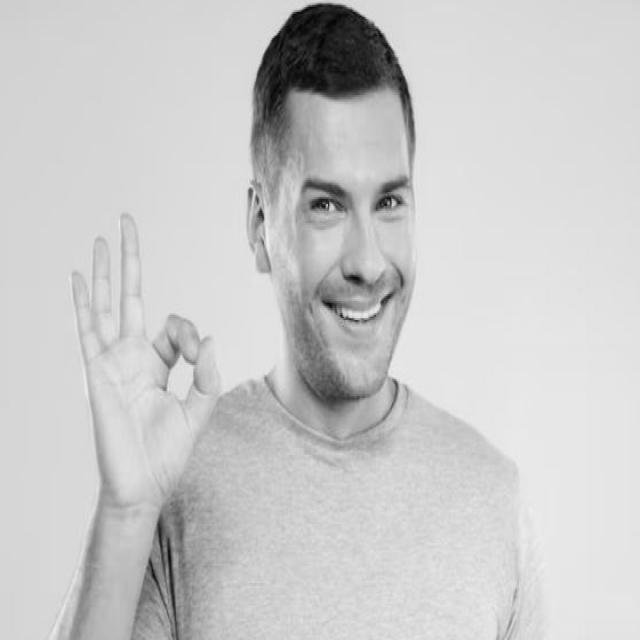perfect: (67, 203, 226, 529)
